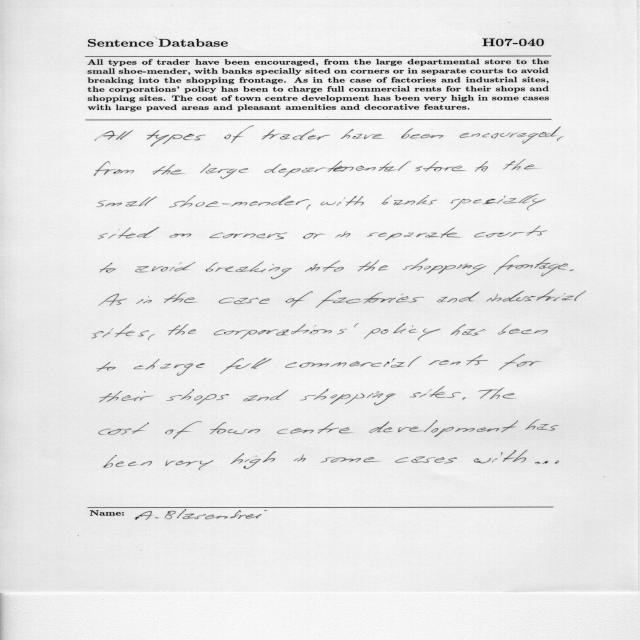word: (369, 420, 518, 437), (264, 161, 411, 177), (214, 323, 358, 339), (316, 290, 424, 307), (169, 195, 310, 208), (460, 126, 561, 144), (285, 356, 422, 368), (300, 389, 396, 406), (494, 256, 568, 277), (206, 261, 292, 279), (451, 195, 546, 211), (403, 259, 487, 276), (364, 324, 441, 341), (133, 359, 205, 376), (367, 228, 461, 241), (487, 289, 587, 301), (167, 389, 230, 405), (147, 130, 206, 147), (277, 422, 352, 434), (220, 357, 272, 374), (92, 324, 149, 339), (231, 451, 276, 469), (475, 226, 548, 237), (261, 129, 330, 140), (474, 450, 528, 464), (99, 227, 160, 239), (200, 164, 248, 179), (499, 354, 542, 370), (165, 421, 202, 439), (97, 197, 157, 208), (135, 262, 195, 273), (99, 422, 149, 435), (104, 455, 152, 468), (410, 386, 461, 398), (94, 161, 134, 176), (428, 355, 488, 365), (210, 422, 260, 434), (100, 391, 154, 402), (415, 161, 466, 172), (382, 195, 437, 205), (498, 324, 548, 335), (209, 233, 287, 240), (224, 125, 254, 143), (437, 291, 480, 303), (243, 390, 289, 401), (165, 460, 214, 470), (305, 260, 344, 272), (401, 128, 443, 139), (395, 457, 457, 464), (286, 291, 313, 307), (450, 324, 486, 336), (321, 196, 364, 206), (341, 129, 383, 139), (525, 419, 559, 431), (479, 388, 515, 399), (99, 293, 127, 306), (503, 160, 536, 171), (219, 298, 270, 305), (321, 457, 380, 463), (153, 164, 184, 175), (358, 260, 388, 271), (164, 293, 196, 303), (102, 130, 133, 140), (168, 324, 196, 335), (97, 362, 116, 372), (100, 262, 116, 273), (475, 161, 488, 172), (303, 233, 325, 239), (136, 296, 152, 304), (335, 231, 351, 238), (169, 233, 191, 238), (294, 454, 306, 462), (535, 460, 559, 464), (148, 334, 155, 340), (557, 137, 563, 142), (307, 205, 312, 210), (463, 397, 467, 400), (569, 270, 574, 272)
